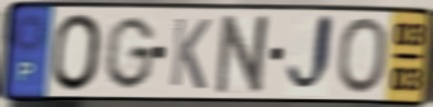G: (101, 14, 157, 92)
J: (284, 11, 336, 98)
K: (167, 16, 213, 93)
N: (212, 12, 276, 96)
O: (334, 15, 391, 97), (50, 11, 105, 94)
